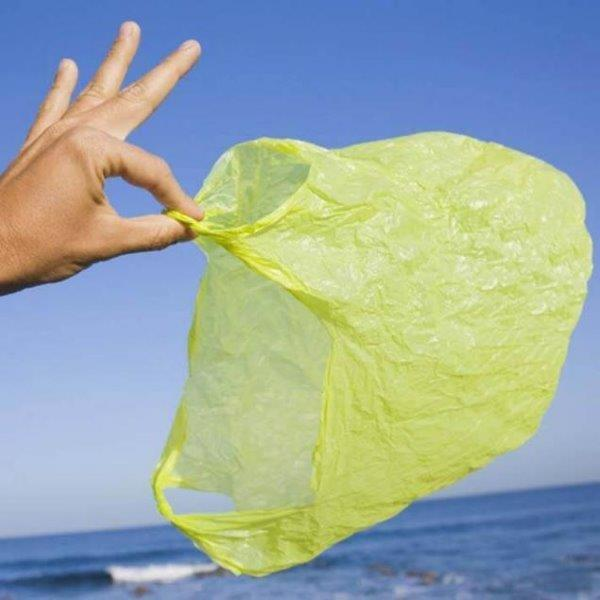plastic: (129, 134, 596, 574)
